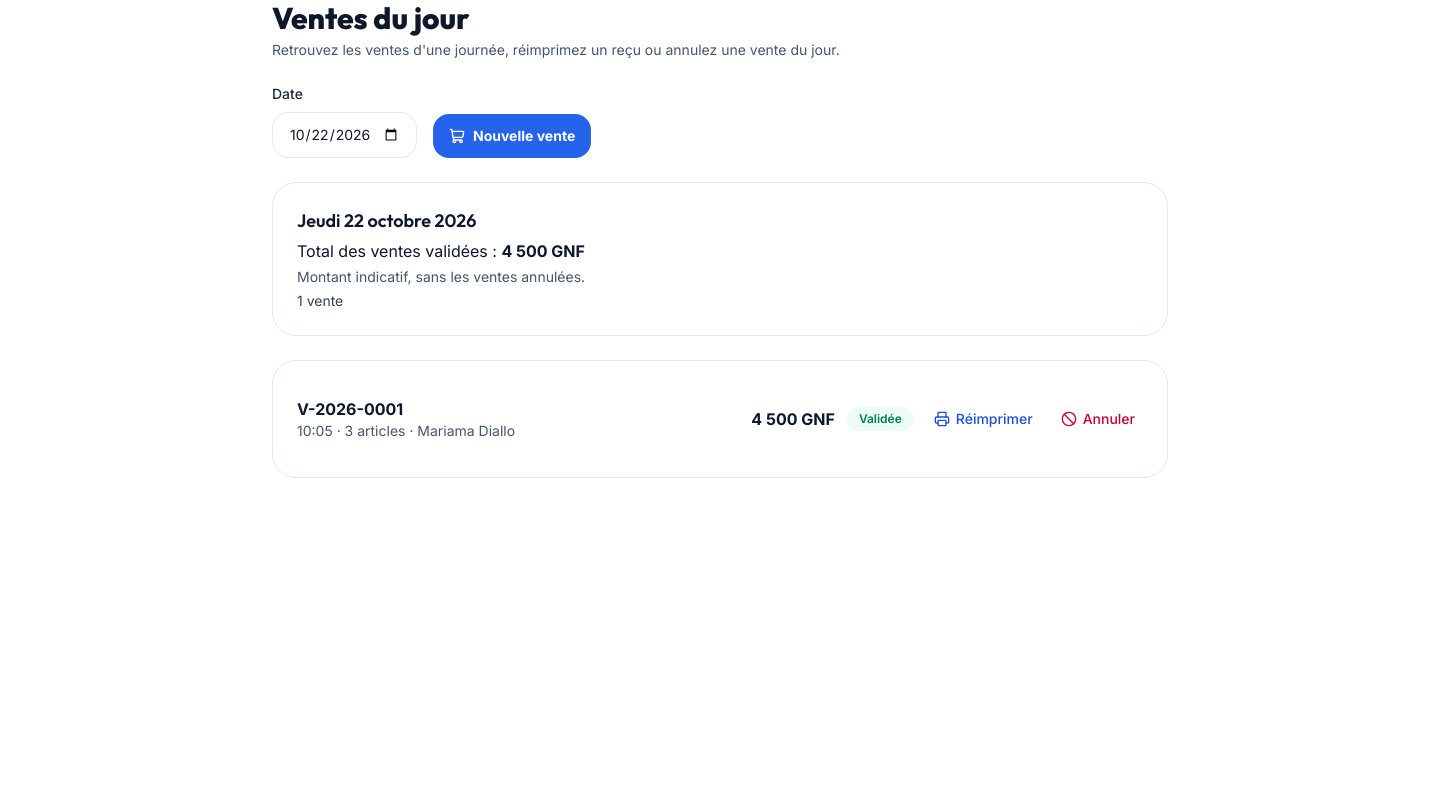
Test: Ventes du jour › explique qu'une vente était déjà annulée
Click the button with aria-label "Annuler la vente V-2026-0001": (1098, 419) x1=1053 y1=401 x2=1143 y2=437
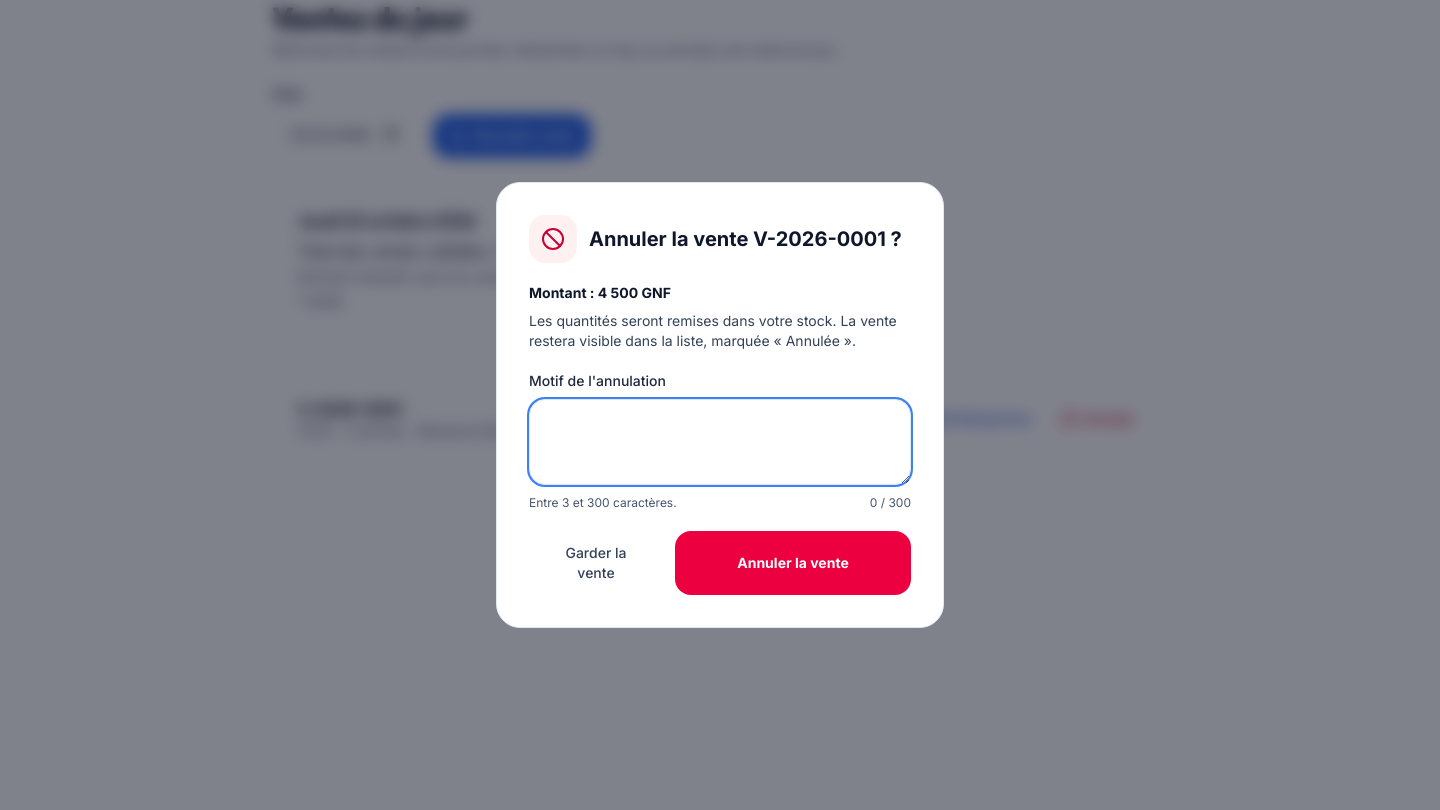
In the text box labelled "Motif de l'annulation": (720, 442) x1=529 y1=399 x2=911 y2=485, type "Doublon"
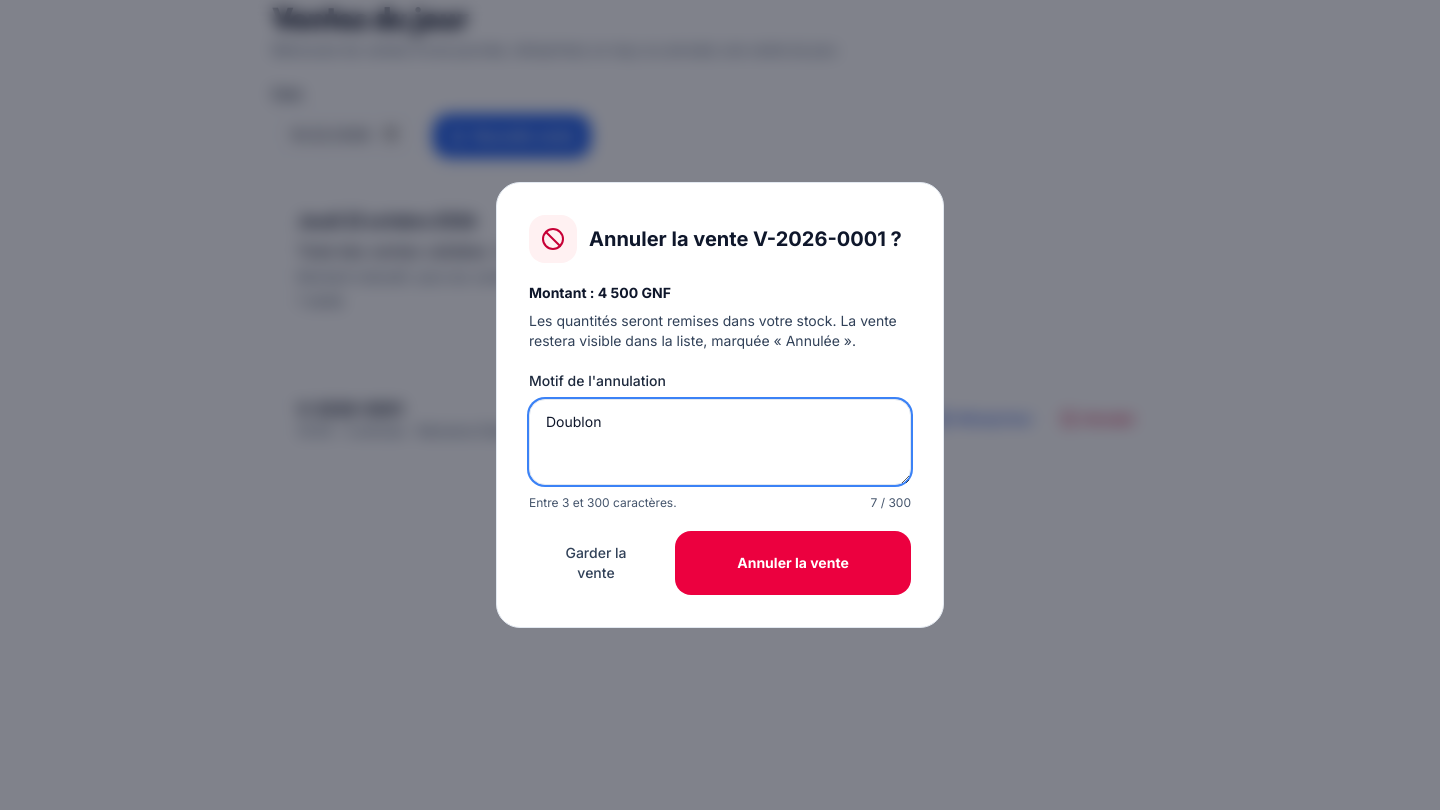
Click the button "Annuler la vente": (793, 563) x1=675 y1=531 x2=911 y2=595
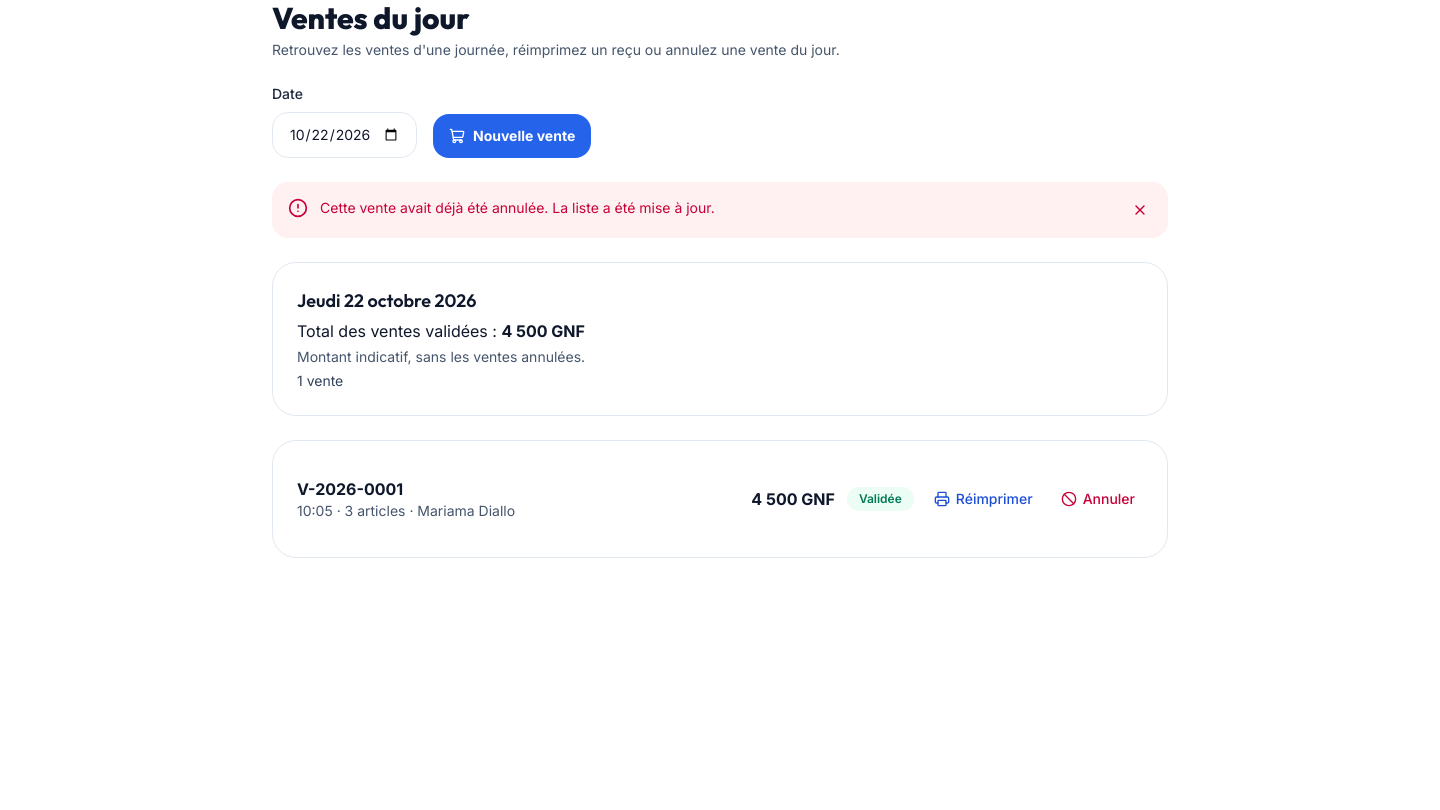
expect the text "Cette vente avait déjà été annulée. La liste a été mise à jour." is shown: met, box x1=320 y1=199 x2=715 y2=216
expect the dialog is gone: met
